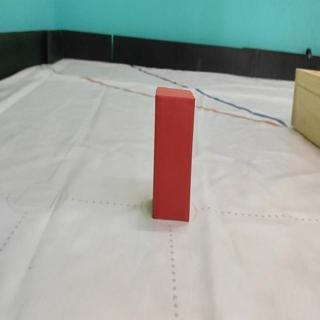redbox: (152, 86, 196, 224)
